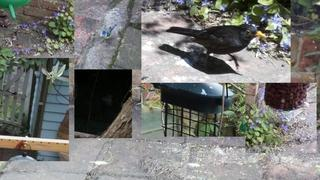blackbird: (165, 24, 267, 74)
blue tit: (100, 24, 117, 47)
